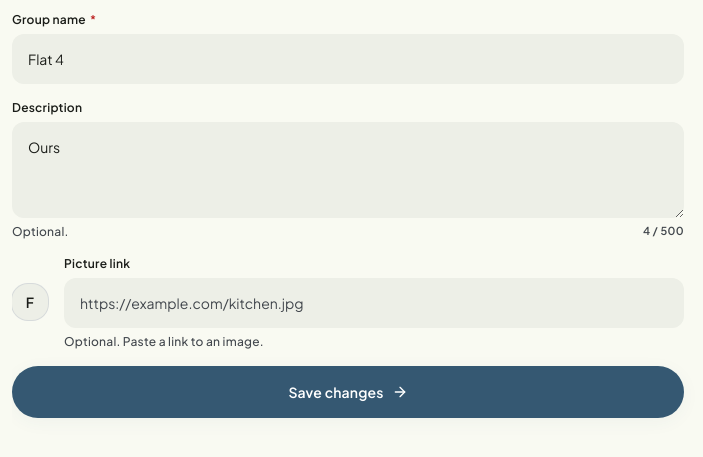
EditGroupForm › shows a field the backend refused, and drops it once that field is edited
Click the button "Save changes" at coordinates (348, 392), box [12, 366, 684, 418]
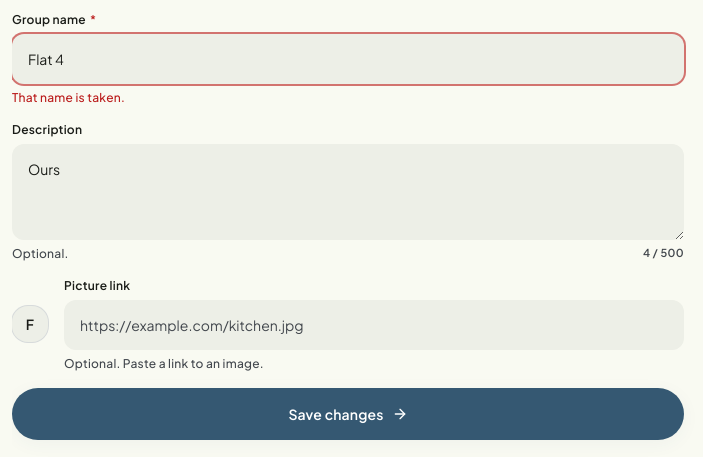
Now the text "That name is taken." is shown, box [12, 90, 125, 105]
Type "!" into the field labelled "Group name" at coordinates (348, 59), box [12, 34, 684, 84]
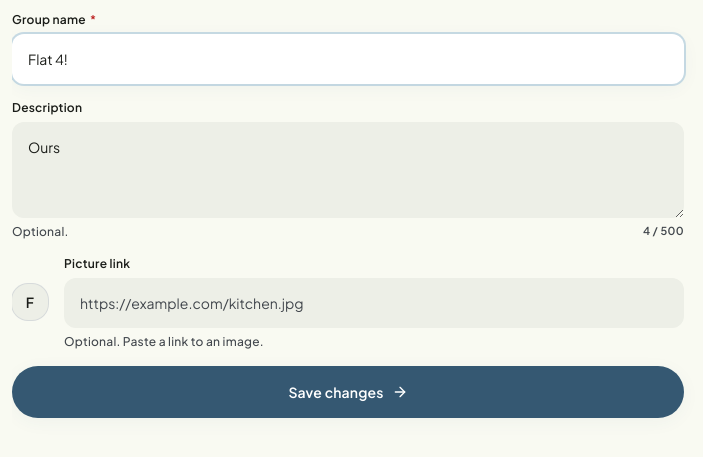
Now the text "That name is taken." is gone
